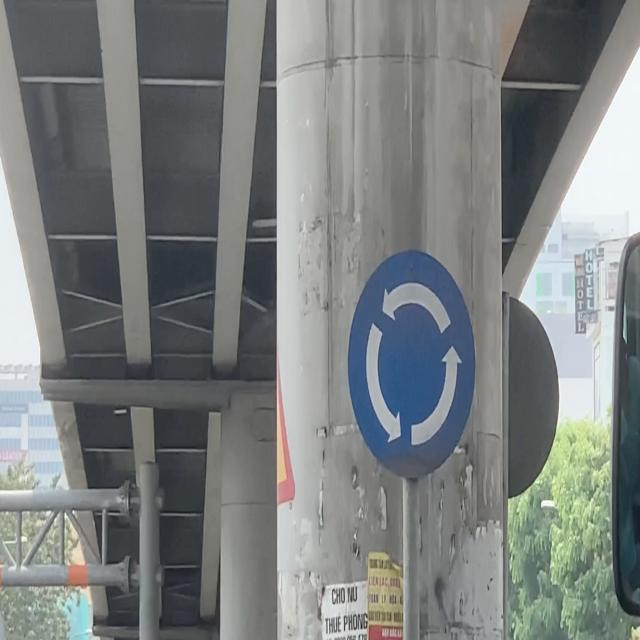Vong xuyen: (348, 246, 478, 478)
